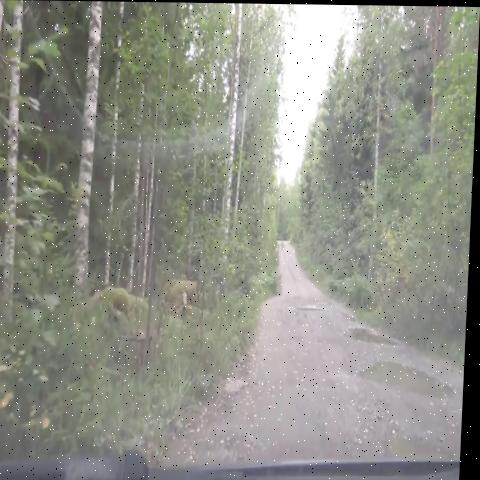pothole: (355, 339, 464, 410), (342, 311, 400, 355), (292, 294, 331, 322)
